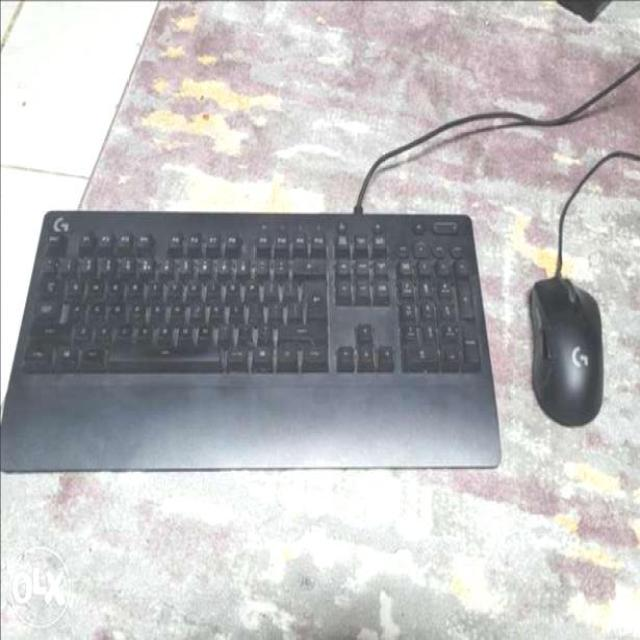keyboard: (5, 213, 484, 382)
mouse: (527, 278, 609, 427)
